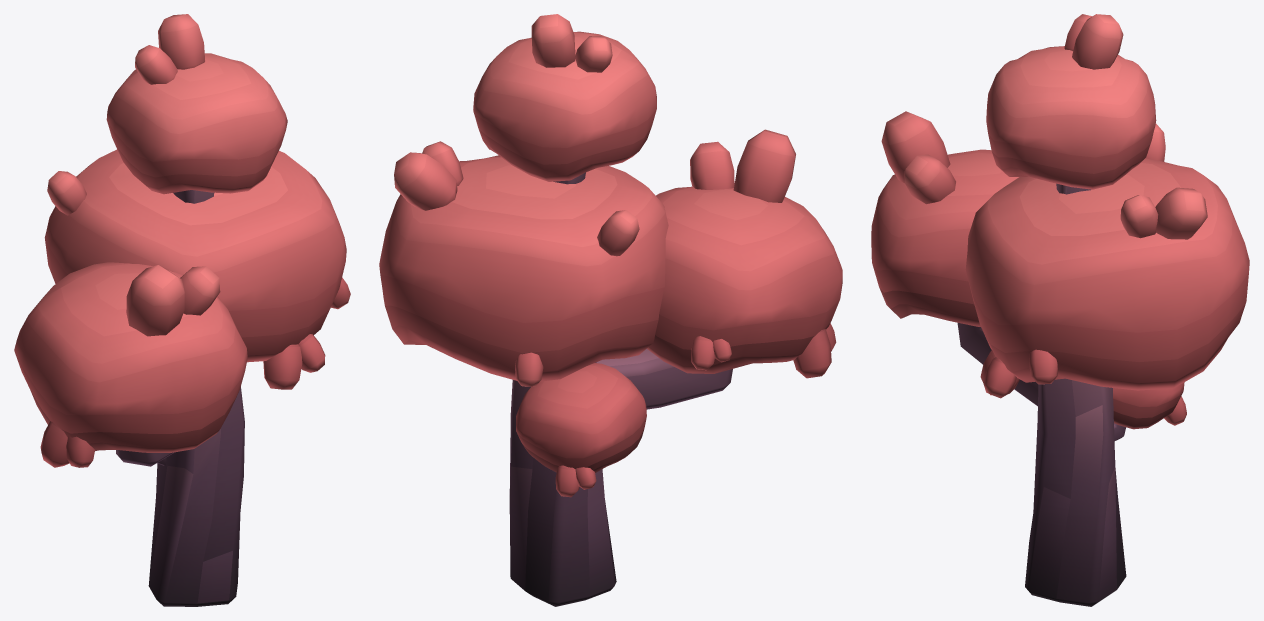
File: grassland_tree_col3_5.fbx
3 renders of one model, left to right at view 1: azimuth 30°, elevation 25°; view 2: azimuth 150°, elevation 25°; view 3: azimuth 270°, elevation 25°, orthographic. The views are drawn at different scales.
Parts seen in each view (by area): view 1: grassland_tree_col3_5; view 2: grassland_tree_col3_5; view 3: grassland_tree_col3_5.
Part boxes in pixels (x1,y1,x2,y2): grassland_tree_col3_5: (14,14,350,606); grassland_tree_col3_5: (379,14,842,606); grassland_tree_col3_5: (871,14,1249,606).
Size of the model in its own units: 663 by 1031 by 618.
